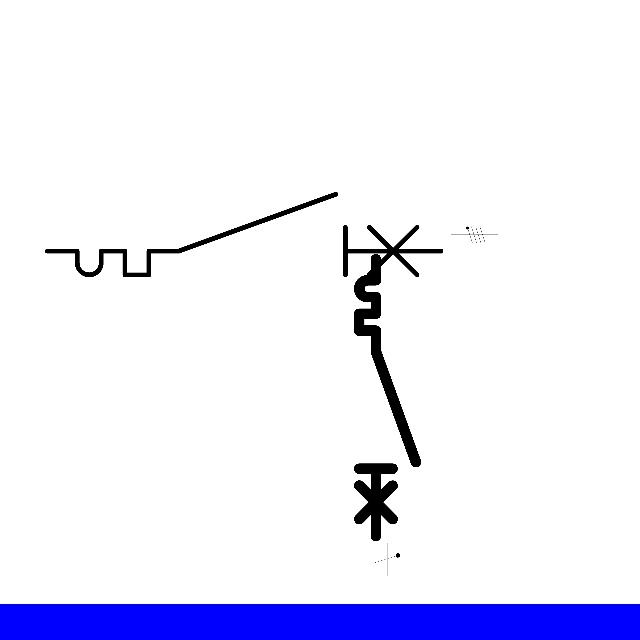interruptor_termomagnetico: (37, 184, 451, 285), (352, 252, 423, 543)
